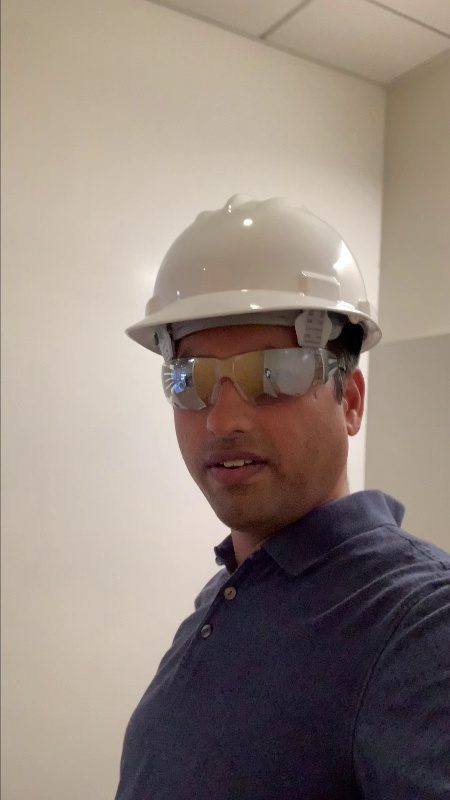glasses: (158, 349, 329, 408)
helmet: (126, 192, 381, 322)
